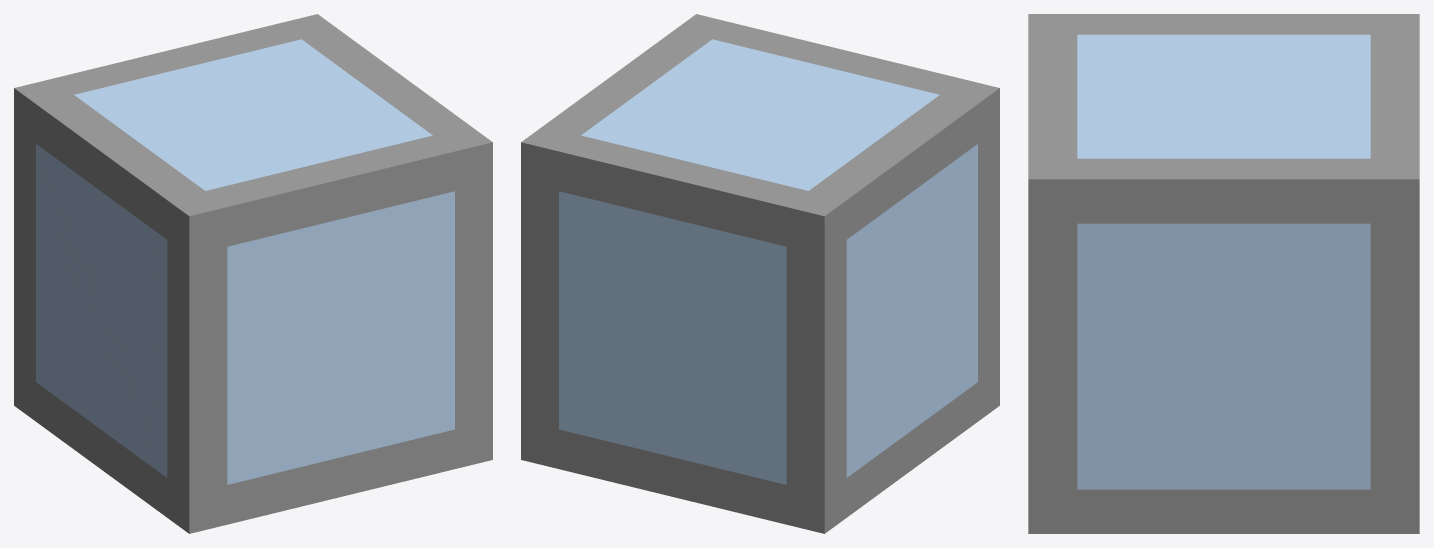
File: Flavium.obj
The picture shows the model from 3 angles, left to right: view 1: azimuth 30°, elevation 25°; view 2: azimuth 150°, elevation 25°; view 3: azimuth 270°, elevation 25°; orthographic projection. The views are drawn at different scales.
Visible parts, largest first — view 1: Glass_Cube.003, Structure_Cube.001; view 2: Glass_Cube.003, Structure_Cube.001; view 3: Glass_Cube.003, Structure_Cube.001.
Part boxes in pixels (x1,y1,x2,y2): Glass_Cube.003: (36,39,454,484); Structure_Cube.001: (14,14,492,533); Glass_Cube.003: (559,39,977,484); Structure_Cube.001: (521,14,999,533); Glass_Cube.003: (1077,34,1370,489); Structure_Cube.001: (1028,14,1419,533).
Bounding box in the file's own units: 2.5 × 2.5 × 2.5.
